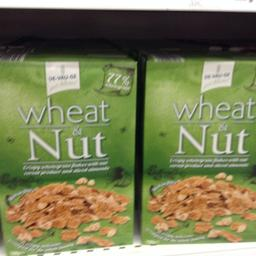cereal: (0, 52, 137, 254), (140, 52, 254, 242)
